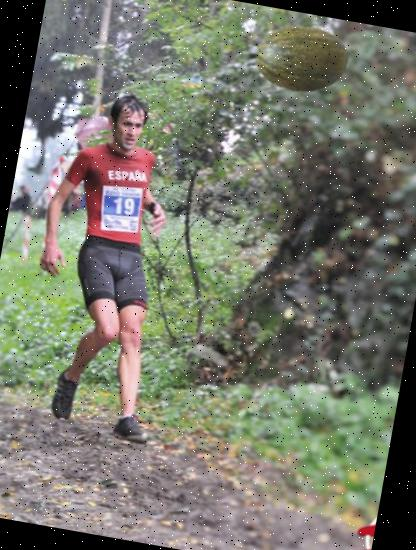Melon: (249, 6, 356, 114)
